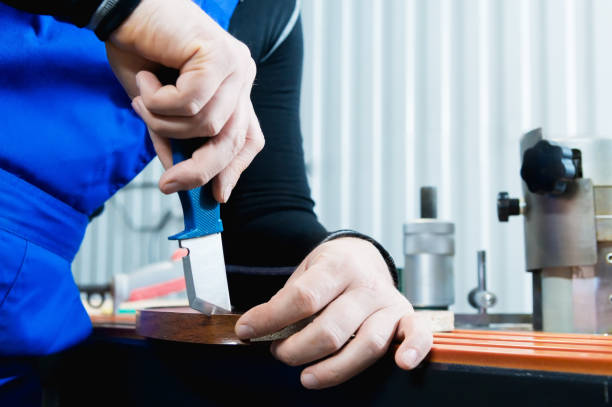knife: (167, 139, 236, 316)
